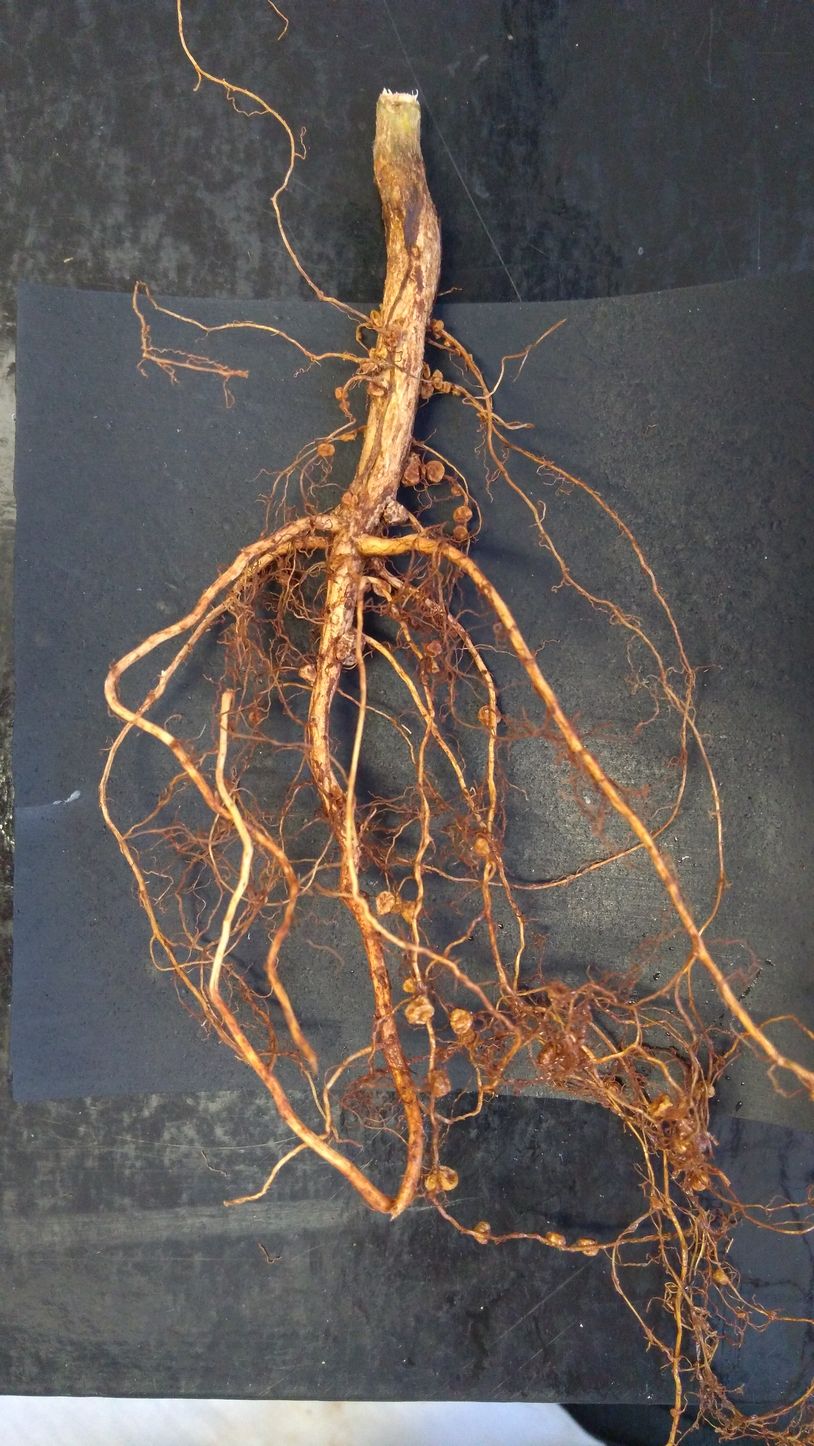nodule: (421, 1162, 463, 1197), (669, 1121, 711, 1156), (333, 630, 371, 668), (403, 995, 439, 1030), (399, 448, 426, 489), (646, 1088, 678, 1121), (427, 1068, 456, 1102), (447, 1004, 476, 1037), (469, 1214, 494, 1250), (476, 701, 504, 730), (381, 500, 410, 527), (374, 888, 397, 919), (423, 457, 448, 485), (295, 661, 320, 688), (574, 1235, 601, 1260), (547, 978, 569, 1008), (400, 897, 420, 928), (470, 836, 494, 860), (450, 504, 476, 525), (371, 578, 394, 600), (388, 890, 404, 920), (546, 1229, 569, 1249), (422, 639, 444, 659), (690, 1174, 712, 1194), (400, 976, 420, 996), (712, 1267, 731, 1286), (451, 524, 469, 544), (338, 427, 360, 443), (701, 1082, 719, 1101), (368, 308, 385, 328), (316, 442, 336, 459), (365, 383, 386, 399), (418, 380, 434, 401), (359, 360, 381, 375), (650, 1193, 667, 1212), (367, 346, 389, 360), (432, 367, 444, 391), (448, 484, 467, 499), (341, 491, 360, 506), (248, 706, 264, 723), (424, 658, 440, 674), (334, 384, 349, 401), (420, 359, 431, 380), (431, 317, 445, 333), (438, 380, 451, 396), (419, 669, 429, 685), (386, 336, 399, 348), (766, 1308, 778, 1320), (452, 389, 463, 401), (669, 1408, 682, 1417), (442, 338, 453, 348), (453, 347, 463, 358), (356, 330, 364, 340), (737, 1311, 746, 1319)
